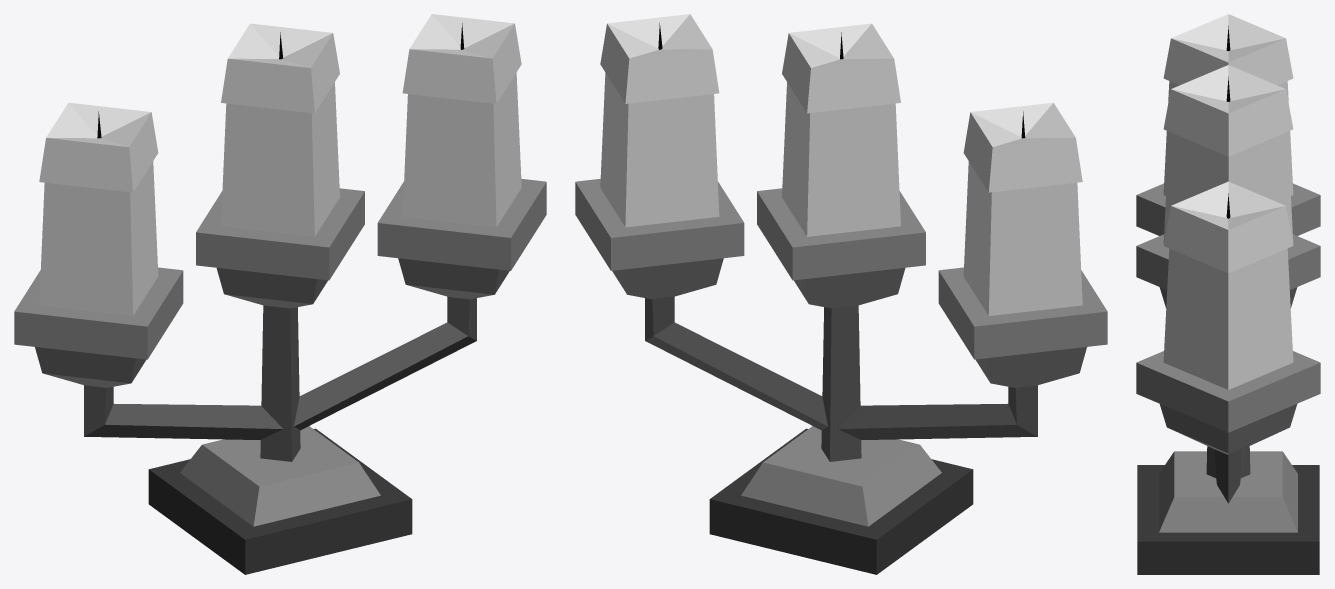
The model's file is Candle Light 06.fbx.
3 views of the same model, side by side, from view 1: azimuth 30°, elevation 25°; view 2: azimuth 150°, elevation 25°; view 3: azimuth 270°, elevation 25° (orthographic). The views are drawn at different scales.
Parts seen in each view (by area): view 1: Candle_Light_06; view 2: Candle_Light_06; view 3: Candle_Light_06.
Boxes of the visible parts, x1,y1,x2,y2 form: Candle_Light_06: (14,14,546,574); Candle_Light_06: (575,14,1107,574); Candle_Light_06: (1136,14,1320,574).
Size of the model in its own units: 53.42 by 46.71 by 16.97.
